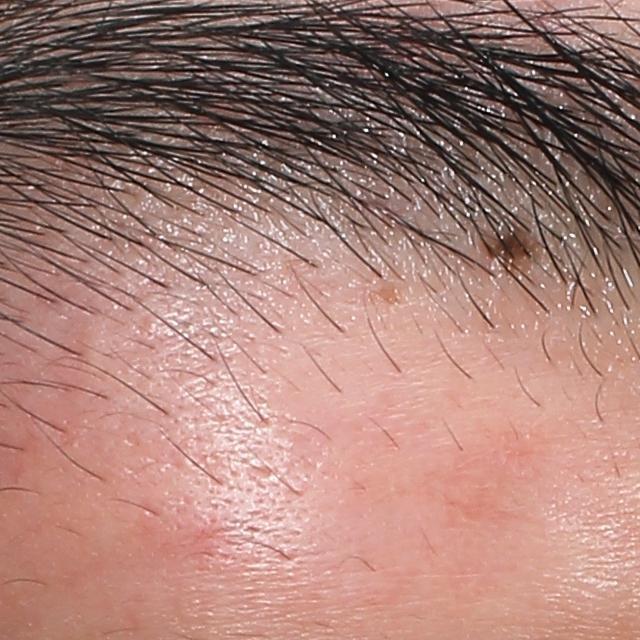nevus: (483, 223, 537, 279)
